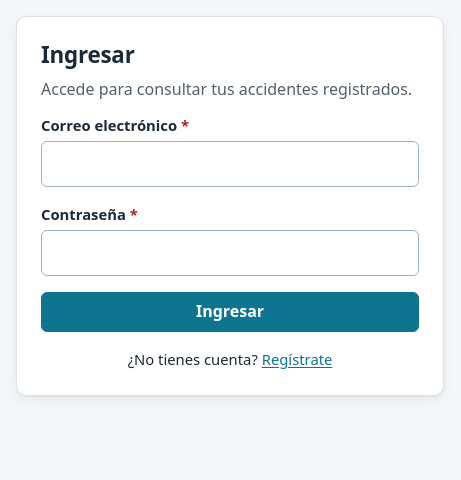
Test case: LoginPage › 401 muestra mensaje genérico y no navega
The image size is (461, 480).
In the field labelled "Correo electrónico": point(230, 164) [41,141,419,187], type "a@b.co"
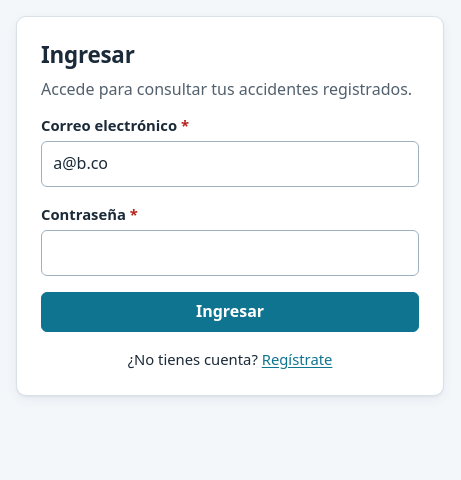
In the password field labelled "Contraseña": point(230, 253) [41,230,419,276], type "secreto123"
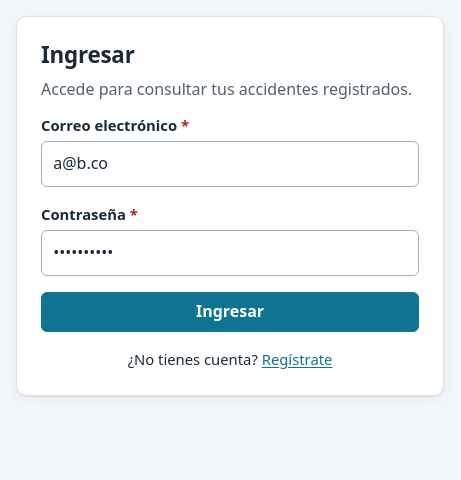
Click the button "Ingresar": point(230, 312) [41,292,419,332]
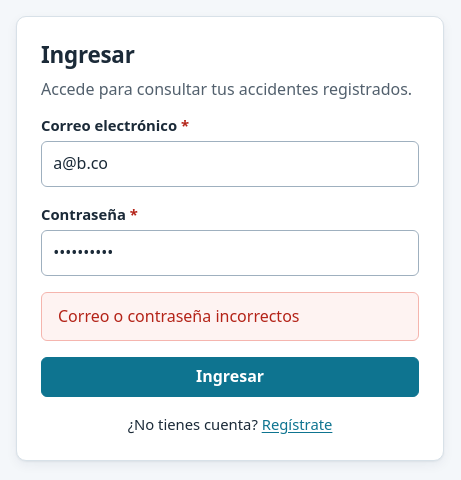
Now the message reads "Correo o contraseña incorrectos", box [58,305,300,327]
